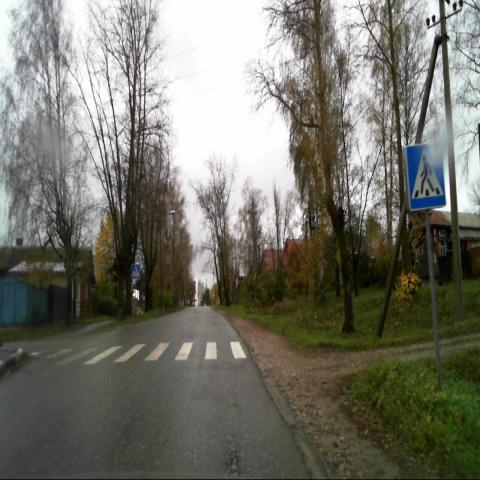5_19_1: (403, 144, 447, 212)
